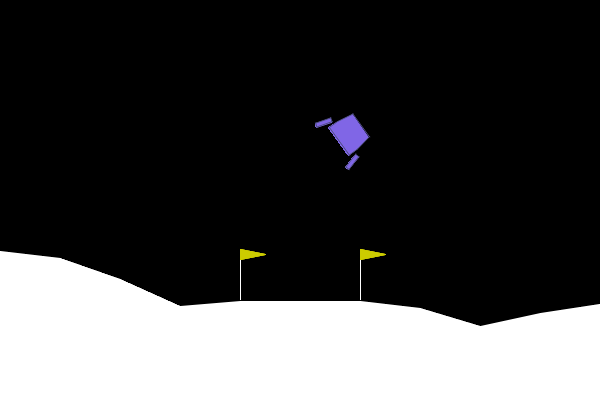lander: (312, 100, 380, 172)
